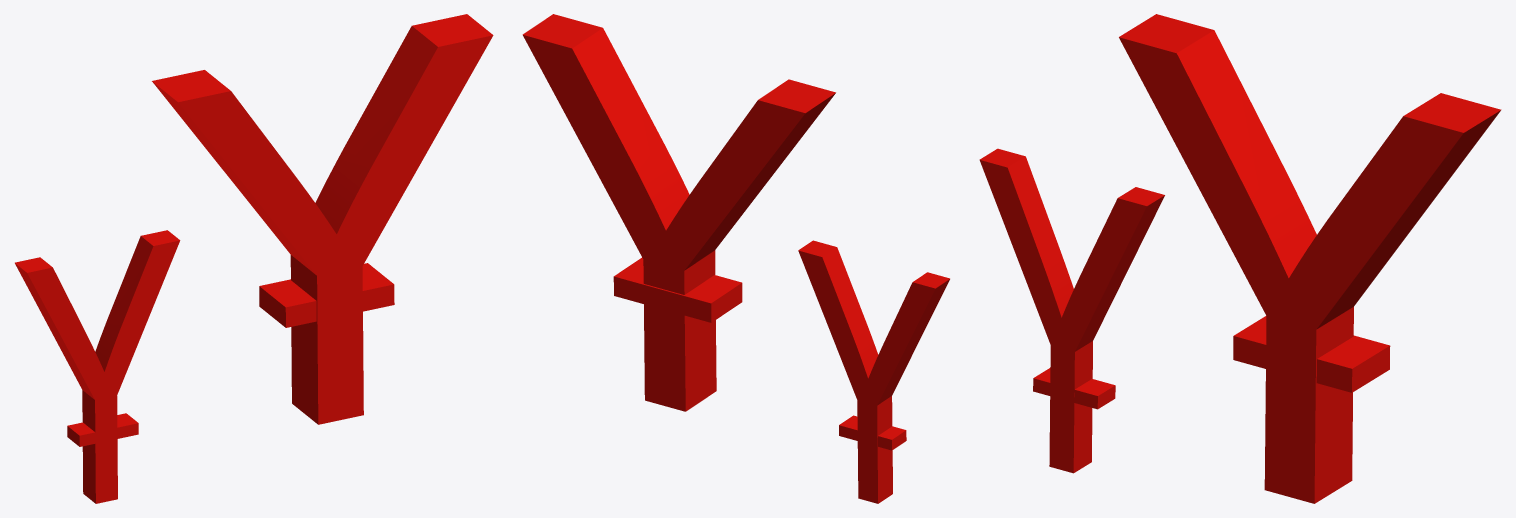
3 renders of one model, left to right at view 1: azimuth 30°, elevation 25°; view 2: azimuth 150°, elevation 25°; view 3: azimuth 330°, elevation 25°, orthographic. The views are drawn at different scales.
Parts seen in each view (by area): view 1: uploads_files_1950256_Y, uploads_files_1950256_Y.001, Куб, Куб.001; view 2: uploads_files_1950256_Y, uploads_files_1950256_Y.001, Куб, Куб.001; view 3: uploads_files_1950256_Y, uploads_files_1950256_Y.001, Куб, Куб.001.
Boxes of the visible parts, left/top/right/bottom form: uploads_files_1950256_Y: left=152, top=14, right=493, bottom=424; uploads_files_1950256_Y.001: left=15, top=230, right=180, bottom=503; Куб: left=259, top=263, right=394, bottom=327; Куб.001: left=67, top=413, right=138, bottom=446; uploads_files_1950256_Y: left=522, top=14, right=835, bottom=411; uploads_files_1950256_Y.001: left=798, top=240, right=949, bottom=503; Куб: left=613, top=257, right=742, bottom=322; Куб.001: left=839, top=415, right=906, bottom=450; uploads_files_1950256_Y: left=1119, top=14, right=1501, bottom=503; uploads_files_1950256_Y.001: left=979, top=148, right=1164, bottom=473; Куб: left=1233, top=316, right=1390, bottom=392; Куб.001: left=1033, top=368, right=1115, bottom=409.
Size of the model in its own units: 28.77 by 24.4 by 4.53.
